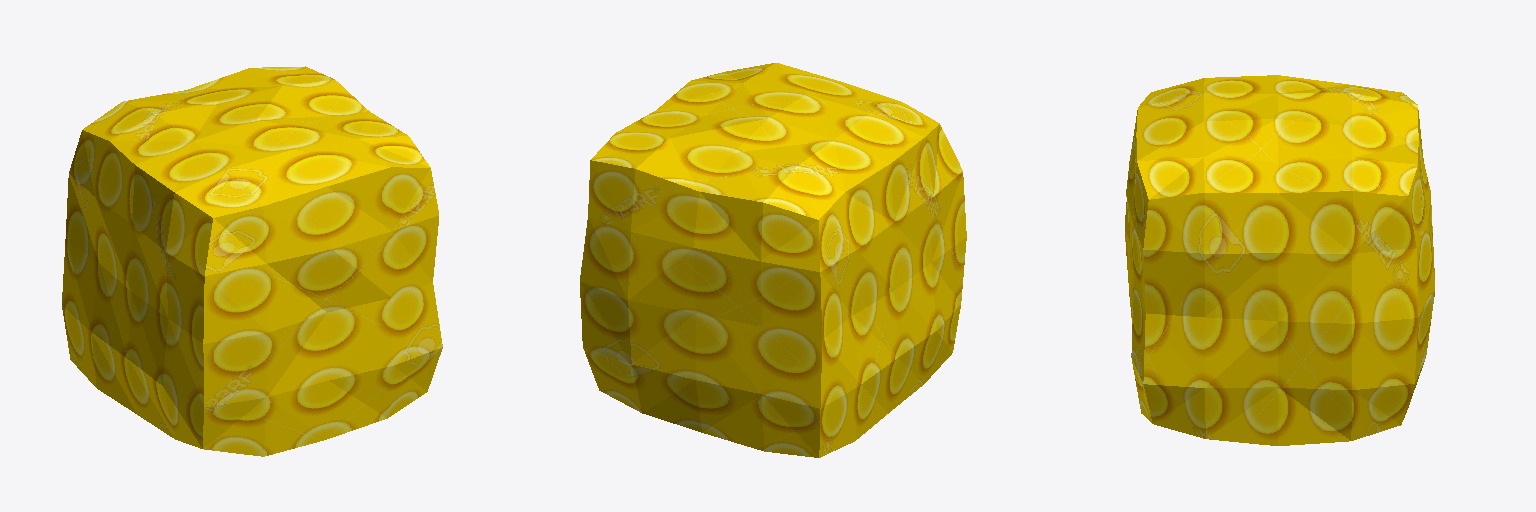
3 views of the same model, side by side, from view 1: azimuth 30°, elevation 25°; view 2: azimuth 150°, elevation 25°; view 3: azimuth 270°, elevation 25° (orthographic).
Parts seen in each view (by area): view 1: KillerFrostIceBlock; view 2: KillerFrostIceBlock; view 3: KillerFrostIceBlock.
Boxes of the visible parts, x1,y1,x2,y2 form: KillerFrostIceBlock: [62, 66, 442, 456]; KillerFrostIceBlock: [580, 63, 966, 457]; KillerFrostIceBlock: [1125, 75, 1434, 445].
Bounding box in the file's own units: 0.583 × 0.5834 × 0.5998.
Materials: 1 (1 with a texture image).